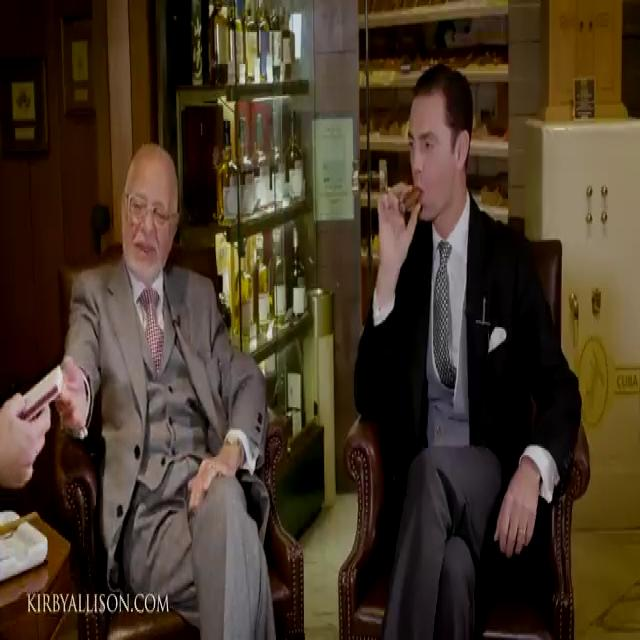Smooking: (398, 165, 423, 221)
